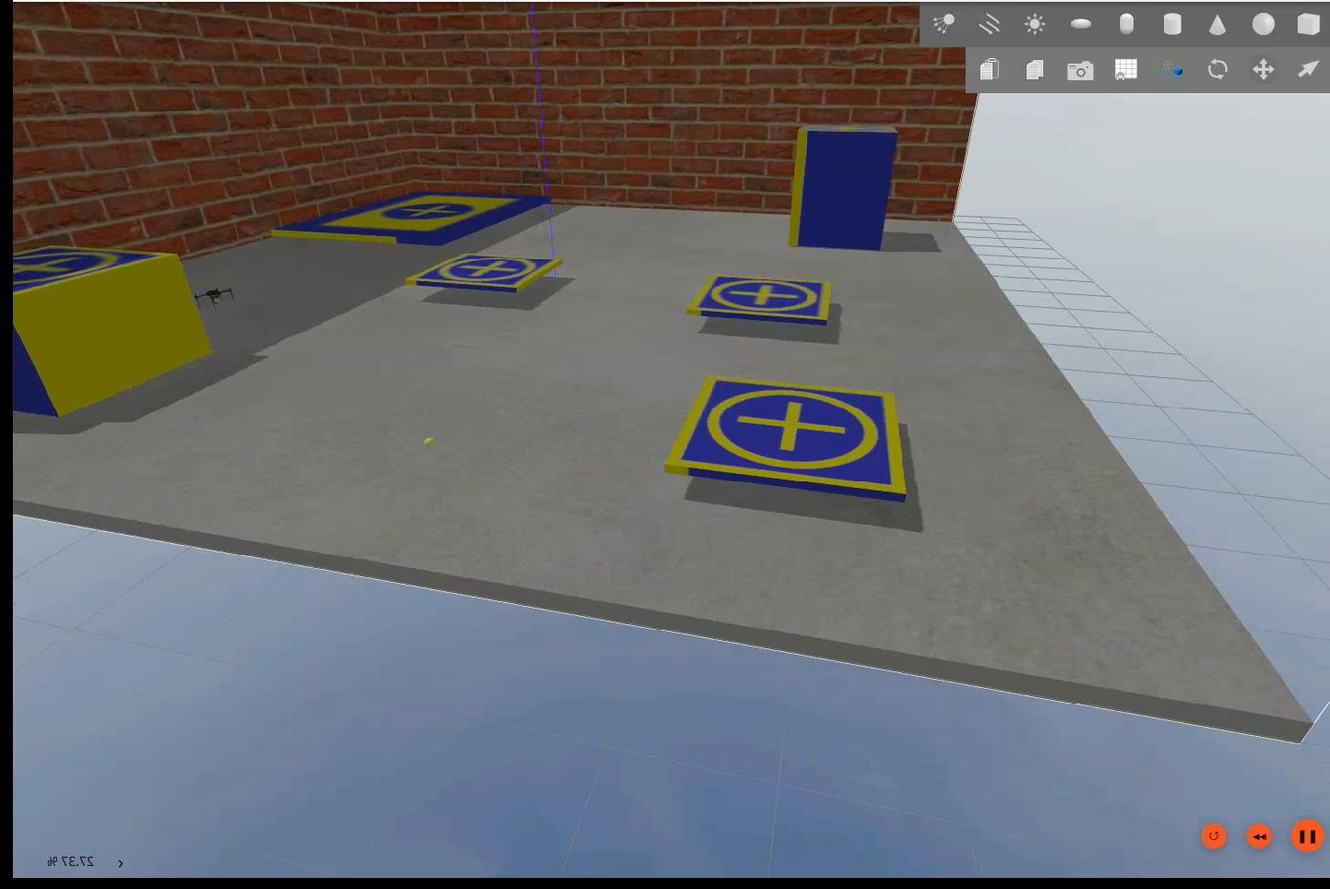large_base: (266, 191, 552, 247)
small_base: (663, 378, 904, 508), (6, 242, 179, 302), (683, 275, 831, 325), (405, 253, 566, 297)
